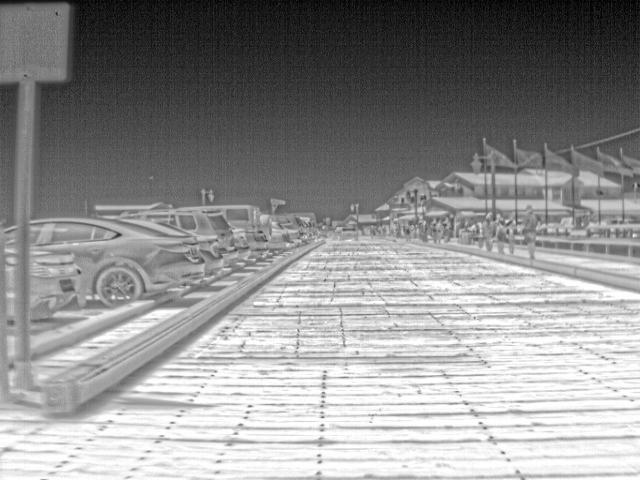car: (32, 214, 203, 308), (151, 204, 273, 262), (116, 215, 222, 276), (149, 214, 237, 260), (31, 250, 82, 322), (1, 243, 16, 323), (276, 213, 306, 243), (231, 229, 253, 262), (269, 218, 289, 254), (338, 225, 360, 243)
person: (521, 204, 540, 260), (480, 212, 496, 249), (494, 218, 508, 253), (506, 227, 519, 253)
